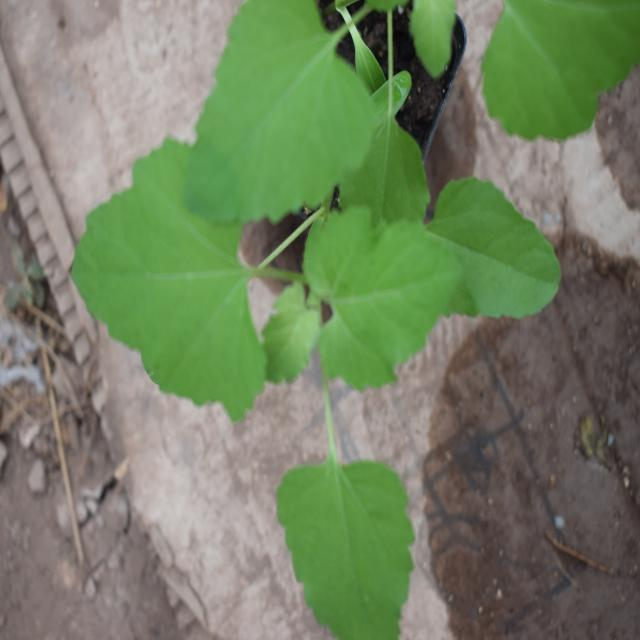cocklebur: (76, 42, 484, 607)
